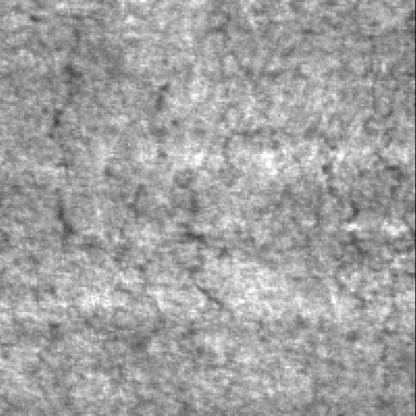crazing: (29, 61, 225, 397), (289, 33, 412, 416)
